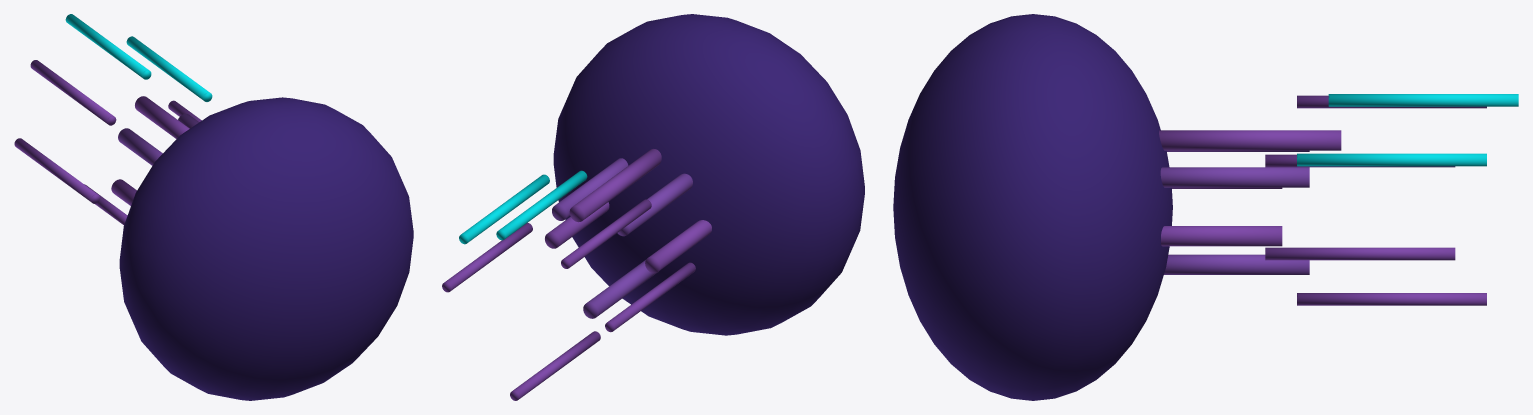
The model's file is 04_inimigo_medusa_eletrica.obj.
The picture shows the model from 3 angles, left to right: view 1: azimuth 30°, elevation 25°; view 2: azimuth 150°, elevation 25°; view 3: azimuth 270°, elevation 25°; orthographic projection. The views are drawn at different scales.
Visible parts, largest first — view 1: Sphere, Cylinder.001, Cylinder.003, Cylinder.005, Cylinder.007, Cylinder, Cylinder.002, Cylinder.004, Cylinder.011; view 2: Sphere, Cylinder, Cylinder.010, Cylinder.004, Cylinder.001, Cylinder.011, Cylinder.003, Cylinder.007, Cylinder.005, Cylinder.009, Cylinder.002, Cylinder.006 (+1 smaller); view 3: Sphere, Cylinder, Cylinder.006, Cylinder.010, Cylinder.009, Cylinder.007, Cylinder.008, Cylinder.001, Cylinder.011, Cylinder.003, Cylinder.005.
Part boxes in pixels (x1=…): Sphere: x1=119, y1=97, x2=413, y2=400; Cylinder.001: x1=65, y1=14, x2=151, y2=79; Cylinder.003: x1=30, y1=60, x2=116, y2=125; Cylinder.005: x1=14, y1=138, x2=99, y2=203; Cylinder.007: x1=126, y1=36, x2=212, y2=101; Cylinder: x1=135, y1=96, x2=189, y2=138; Cylinder.002: x1=118, y1=128, x2=162, y2=165; Cylinder.004: x1=111, y1=179, x2=136, y2=205; Cylinder.011: x1=84, y1=184, x2=127, y2=224; Sphere: x1=553, y1=14, x2=864, y2=335; Cylinder: x1=569, y1=149, x2=661, y2=222; Cylinder.010: x1=583, y1=260, x2=658, y2=318; Cylinder.004: x1=645, y1=220, x2=711, y2=273; Cylinder.001: x1=496, y1=170, x2=587, y2=240; Cylinder.011: x1=510, y1=331, x2=600, y2=400; Cylinder.003: x1=561, y1=199, x2=651, y2=268; Cylinder.007: x1=459, y1=174, x2=549, y2=244; Cylinder.005: x1=605, y1=262, x2=695, y2=332; Cylinder.009: x1=442, y1=222, x2=532, y2=292; Cylinder.002: x1=617, y1=173, x2=692, y2=236; Cylinder.006: x1=552, y1=158, x2=628, y2=220; Sphere: x1=893, y1=14, x2=1172, y2=400; Cylinder: x1=1159, y1=130, x2=1341, y2=150; Cylinder.006: x1=1160, y1=167, x2=1309, y2=187; Cylinder.010: x1=1164, y1=254, x2=1309, y2=274; Cylinder.009: x1=1265, y1=247, x2=1455, y2=260; Cylinder.007: x1=1297, y1=153, x2=1486, y2=166; Cylinder.008: x1=1161, y1=226, x2=1282, y2=246; Cylinder.001: x1=1328, y1=94, x2=1518, y2=106; Cylinder.011: x1=1297, y1=293, x2=1486, y2=305; Cylinder.003: x1=1297, y1=95, x2=1486, y2=108; Cylinder.005: x1=1265, y1=154, x2=1455, y2=167.
Bounding box in the file's own units: 1.84 × 1.84 × 2.96.
Materials: 17 (17 with a texture image).
